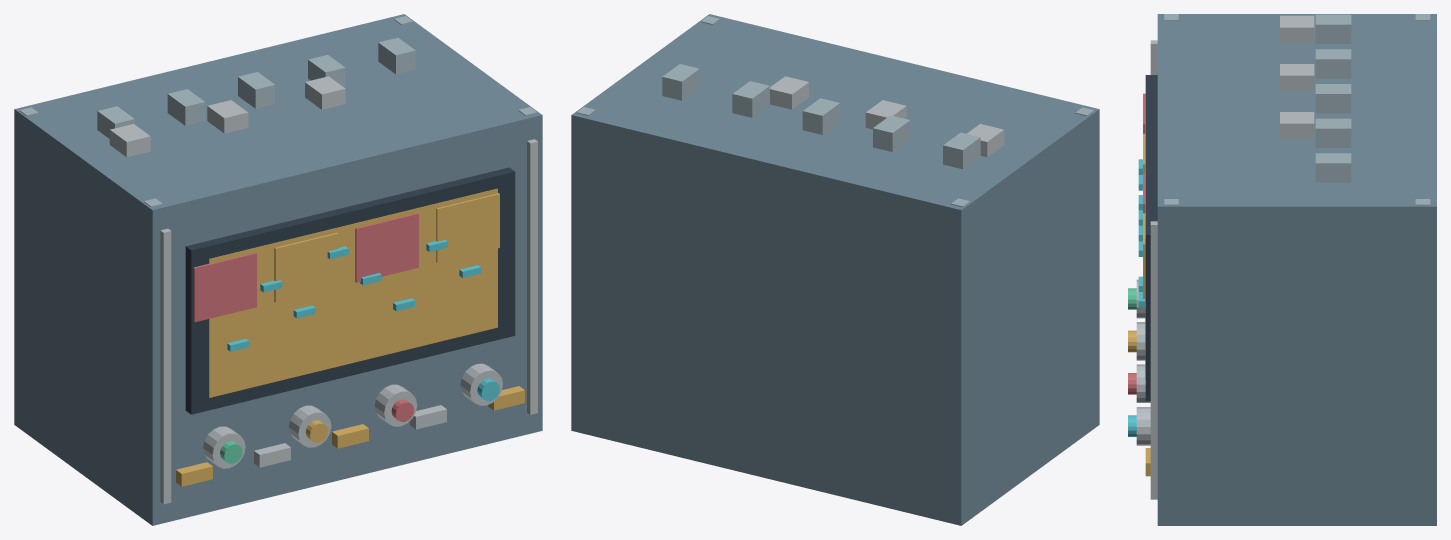
File: 45_L72_WaferTemperaturePIDController.glb
3 views of the same model, side by side, from view 1: azimuth 30°, elevation 25°; view 2: azimuth 150°, elevation 25°; view 3: azimuth 270°, elevation 25° (orthographic).
Parts seen in each view (by area): view 1: WaferTemperaturePIDController_Part_000, WaferTemperaturePIDController_Part_008, WaferTemperaturePIDController_Part_007, WaferTemperaturePIDController_Part_038, WaferTemperaturePIDController_Part_040, WaferTemperaturePIDController_Part_041, WaferTemperaturePIDController_Part_039, WaferTemperaturePIDController_Part_005, WaferTemperaturePIDController_Part_006, WaferTemperaturePIDController_Part_029, WaferTemperaturePIDController_Part_032, WaferTemperaturePIDController_Part_030 (+13 smaller); view 2: WaferTemperaturePIDController_Part_000, WaferTemperaturePIDController_Part_030, WaferTemperaturePIDController_Part_028, WaferTemperaturePIDController_Part_029, WaferTemperaturePIDController_Part_032, WaferTemperaturePIDController_Part_031, WaferTemperaturePIDController_Part_027, WaferTemperaturePIDController_Part_025, WaferTemperaturePIDController_Part_026; view 3: WaferTemperaturePIDController_Part_000, WaferTemperaturePIDController_Part_007, WaferTemperaturePIDController_Part_006, WaferTemperaturePIDController_Part_029, WaferTemperaturePIDController_Part_032, WaferTemperaturePIDController_Part_028, WaferTemperaturePIDController_Part_030, WaferTemperaturePIDController_Part_031, WaferTemperaturePIDController_Part_025, WaferTemperaturePIDController_Part_027, WaferTemperaturePIDController_Part_026, WaferTemperaturePIDController_Part_023 (+2 smaller).
Boxes of the visible parts, x1,y1,x2,y2 form: WaferTemperaturePIDController_Part_000: (14, 14, 542, 525); WaferTemperaturePIDController_Part_008: (209, 188, 497, 397); WaferTemperaturePIDController_Part_007: (185, 167, 515, 414); WaferTemperaturePIDController_Part_038: (193, 252, 256, 322); WaferTemperaturePIDController_Part_040: (355, 213, 418, 282); WaferTemperaturePIDController_Part_041: (436, 193, 499, 262); WaferTemperaturePIDController_Part_039: (274, 233, 337, 302); WaferTemperaturePIDController_Part_005: (160, 228, 171, 504); WaferTemperaturePIDController_Part_006: (527, 139, 537, 414); WaferTemperaturePIDController_Part_029: (167, 89, 205, 125); WaferTemperaturePIDController_Part_032: (378, 37, 415, 74); WaferTemperaturePIDController_Part_030: (238, 72, 275, 108); WaferTemperaturePIDController_Part_000: (571, 14, 1099, 525); WaferTemperaturePIDController_Part_030: (802, 98, 840, 134); WaferTemperaturePIDController_Part_028: (943, 132, 980, 169); WaferTemperaturePIDController_Part_029: (873, 115, 910, 151); WaferTemperaturePIDController_Part_032: (662, 64, 699, 100); WaferTemperaturePIDController_Part_031: (732, 81, 769, 117); WaferTemperaturePIDController_Part_027: (770, 76, 808, 109); WaferTemperaturePIDController_Part_025: (967, 124, 1004, 157); WaferTemperaturePIDController_Part_026: (865, 100, 906, 129); WaferTemperaturePIDController_Part_000: (1157, 14, 1436, 525); WaferTemperaturePIDController_Part_007: (1145, 75, 1157, 400); WaferTemperaturePIDController_Part_006: (1150, 221, 1157, 499); WaferTemperaturePIDController_Part_029: (1315, 49, 1351, 78); WaferTemperaturePIDController_Part_032: (1315, 153, 1351, 182); WaferTemperaturePIDController_Part_028: (1315, 14, 1351, 43); WaferTemperaturePIDController_Part_030: (1315, 84, 1351, 113); WaferTemperaturePIDController_Part_031: (1315, 118, 1351, 147); WaferTemperaturePIDController_Part_025: (1280, 15, 1314, 42); WaferTemperaturePIDController_Part_027: (1280, 112, 1314, 139); WaferTemperaturePIDController_Part_026: (1280, 64, 1314, 90); WaferTemperaturePIDController_Part_023: (1136, 407, 1150, 445).
Size of the model in its own units: 1.06 by 0.8698 by 0.7185.
